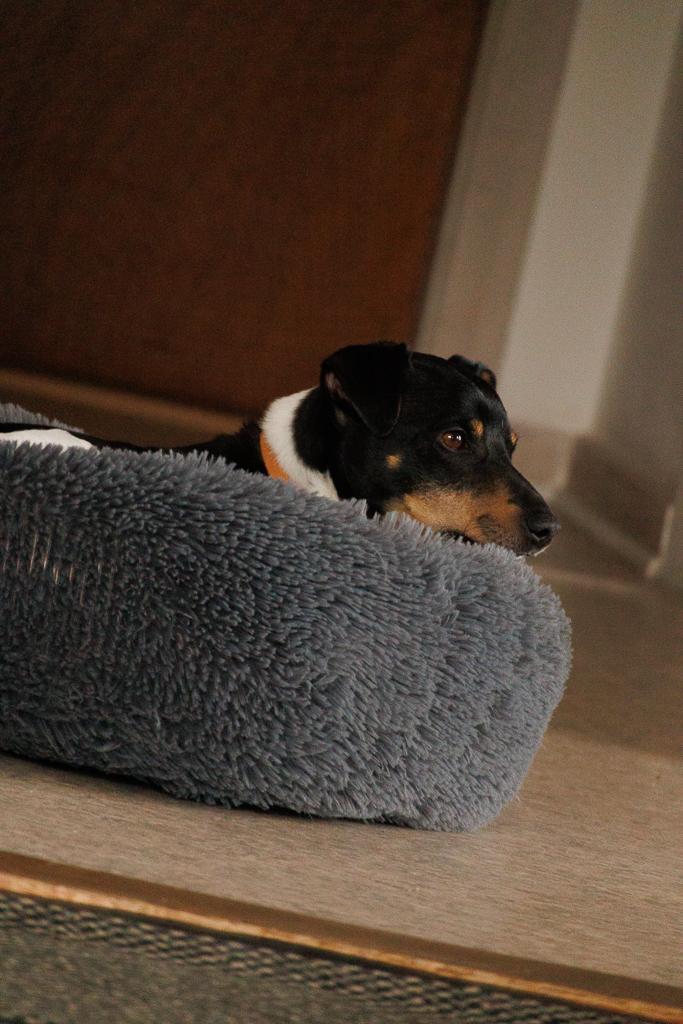Dog: (0, 326, 564, 565)
